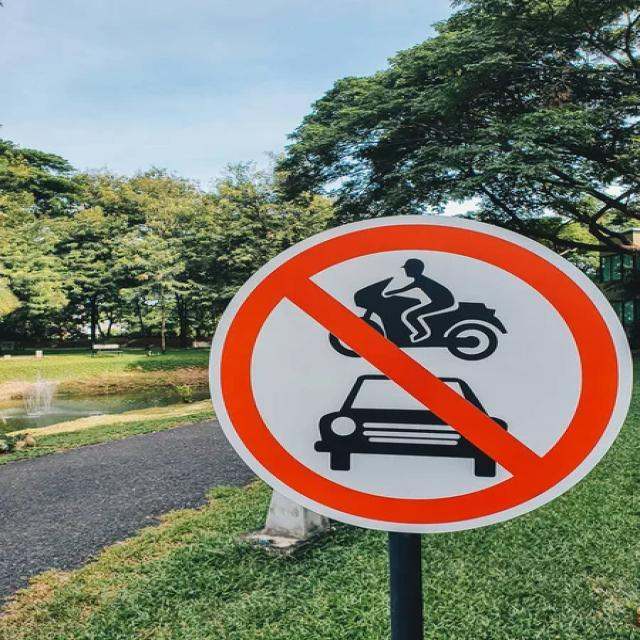all motor vehicle prohibited: (210, 215, 620, 531)
